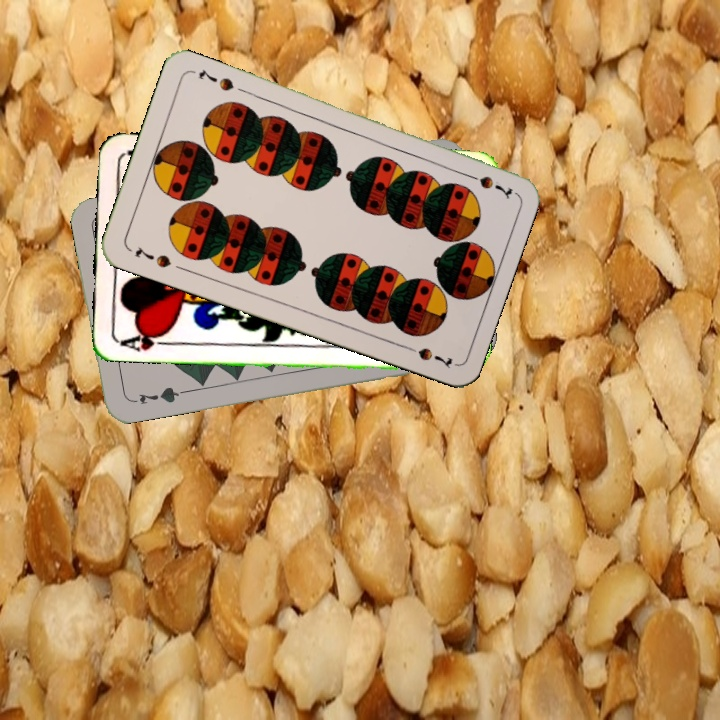G7: (126, 382, 185, 407)
HA: (115, 326, 175, 354)
S7: (459, 168, 515, 200), (131, 242, 174, 271)
